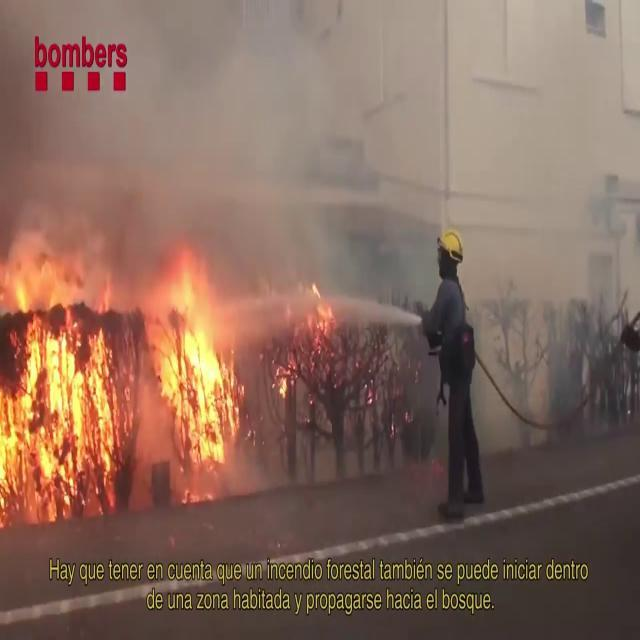Fire: (0, 262, 127, 522), (144, 256, 245, 477)
Smoke: (0, 1, 428, 288)
